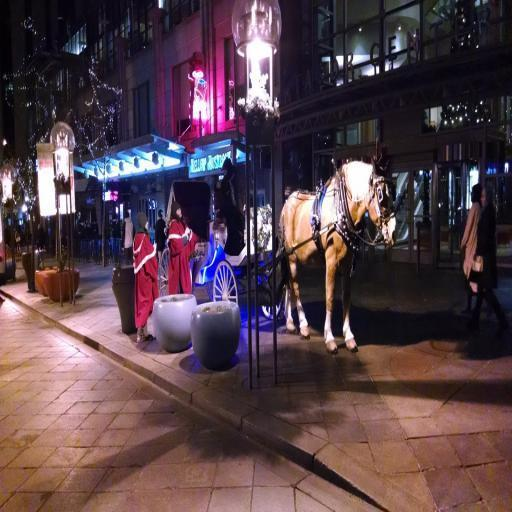horse: (280, 153, 398, 354)
